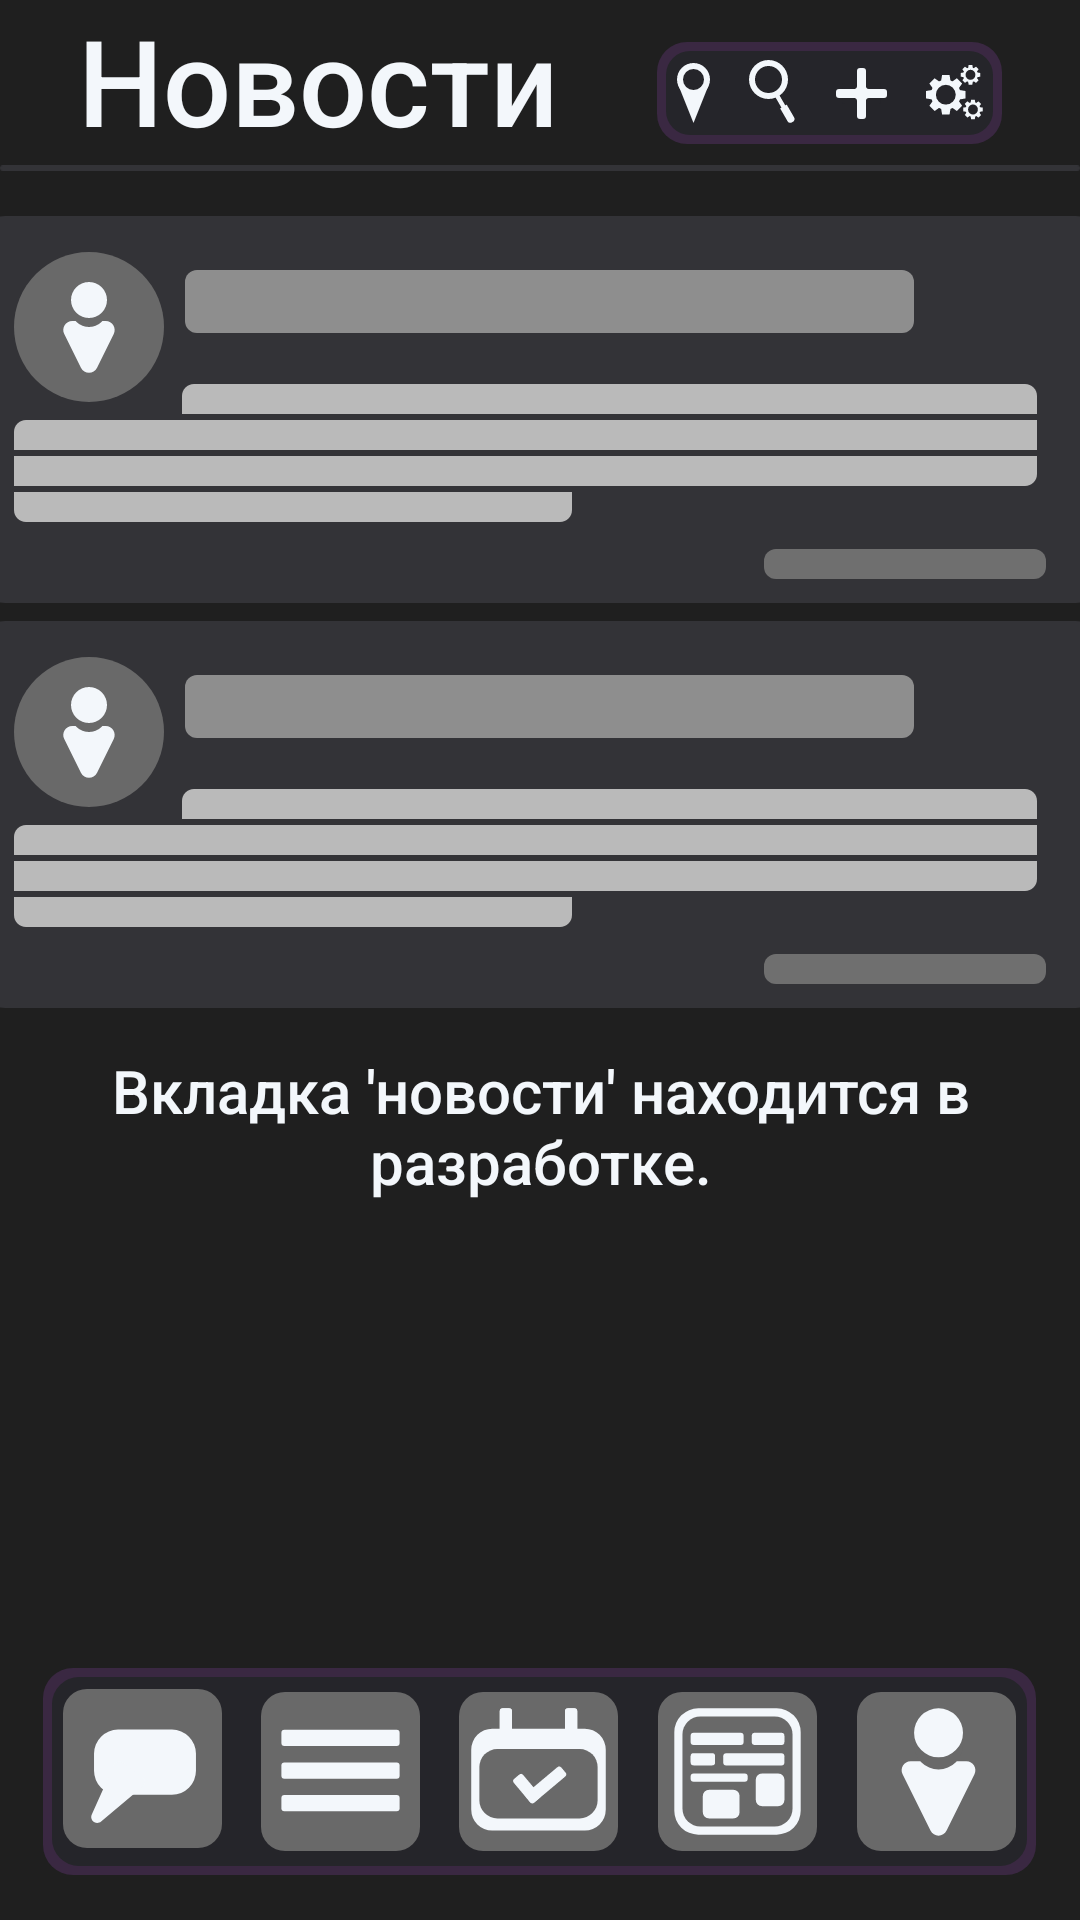

Icons on this 1080 × 1920 Android screen, each with the point to tap as (x,y):
bottompanel accountbutton: (936,1771)
bottompanel eventsbutton: (538,1771)
bottompanel messengerbutton: (142,1768)
bottompanel newsbutton: (737,1771)
tooslpanel magnifier: (772,93)
tooslpanel plus: (861,93)
tooslpanel position: (693,93)
tooslpanelsettings: (954,93)
